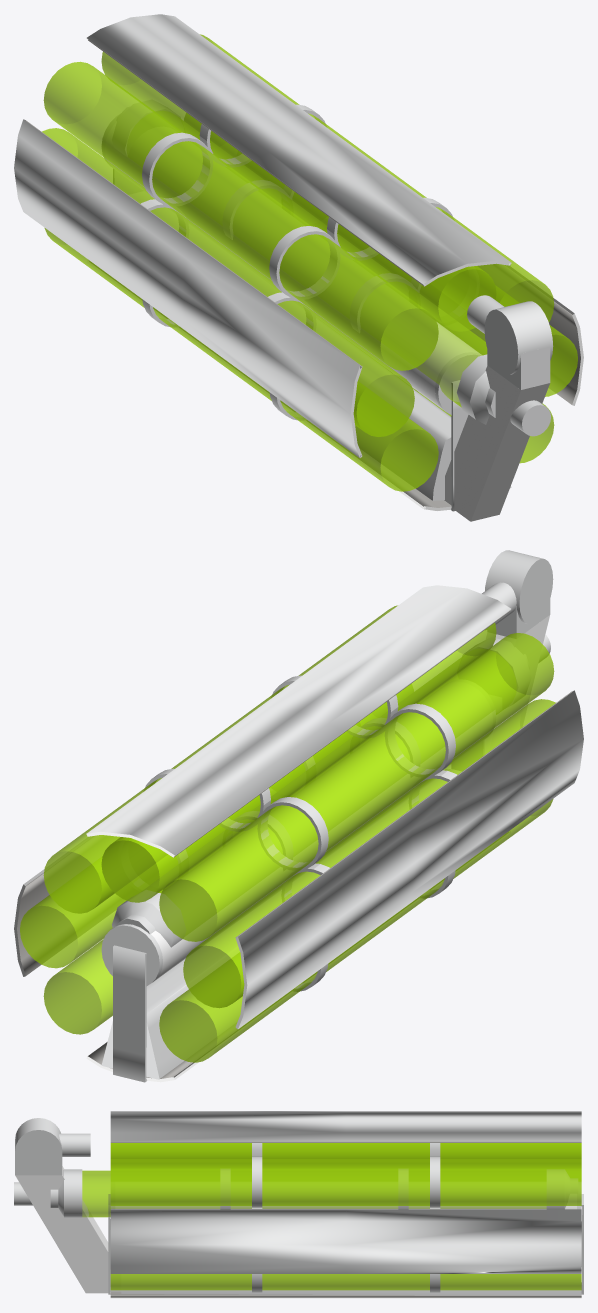
File: pbrExample.fbx
3 views of the same model, one above another, from view 1: azimuth 30°, elevation 25°; view 2: azimuth 150°, elevation 25°; view 3: azimuth 270°, elevation 25° (orthographic). The views are drawn at different scales.
Visible parts, largest first — view 1: zaolei-5_mesh.001, zaolei-5_mesh; view 2: zaolei-5_mesh.001, zaolei-5_mesh; view 3: zaolei-5_mesh.001, zaolei-5_mesh.
Part boxes in pixels (x1,y1,x2,y2): zaolei-5_mesh.001: [14, 14, 583, 521]; zaolei-5_mesh: [112, 100, 550, 436]; zaolei-5_mesh.001: [14, 550, 583, 1082]; zaolei-5_mesh: [112, 634, 550, 947]; zaolei-5_mesh.001: [15, 1111, 583, 1298]; zaolei-5_mesh: [14, 1169, 577, 1217].
Size of the model in its own units: 40 by 40 by 121.
